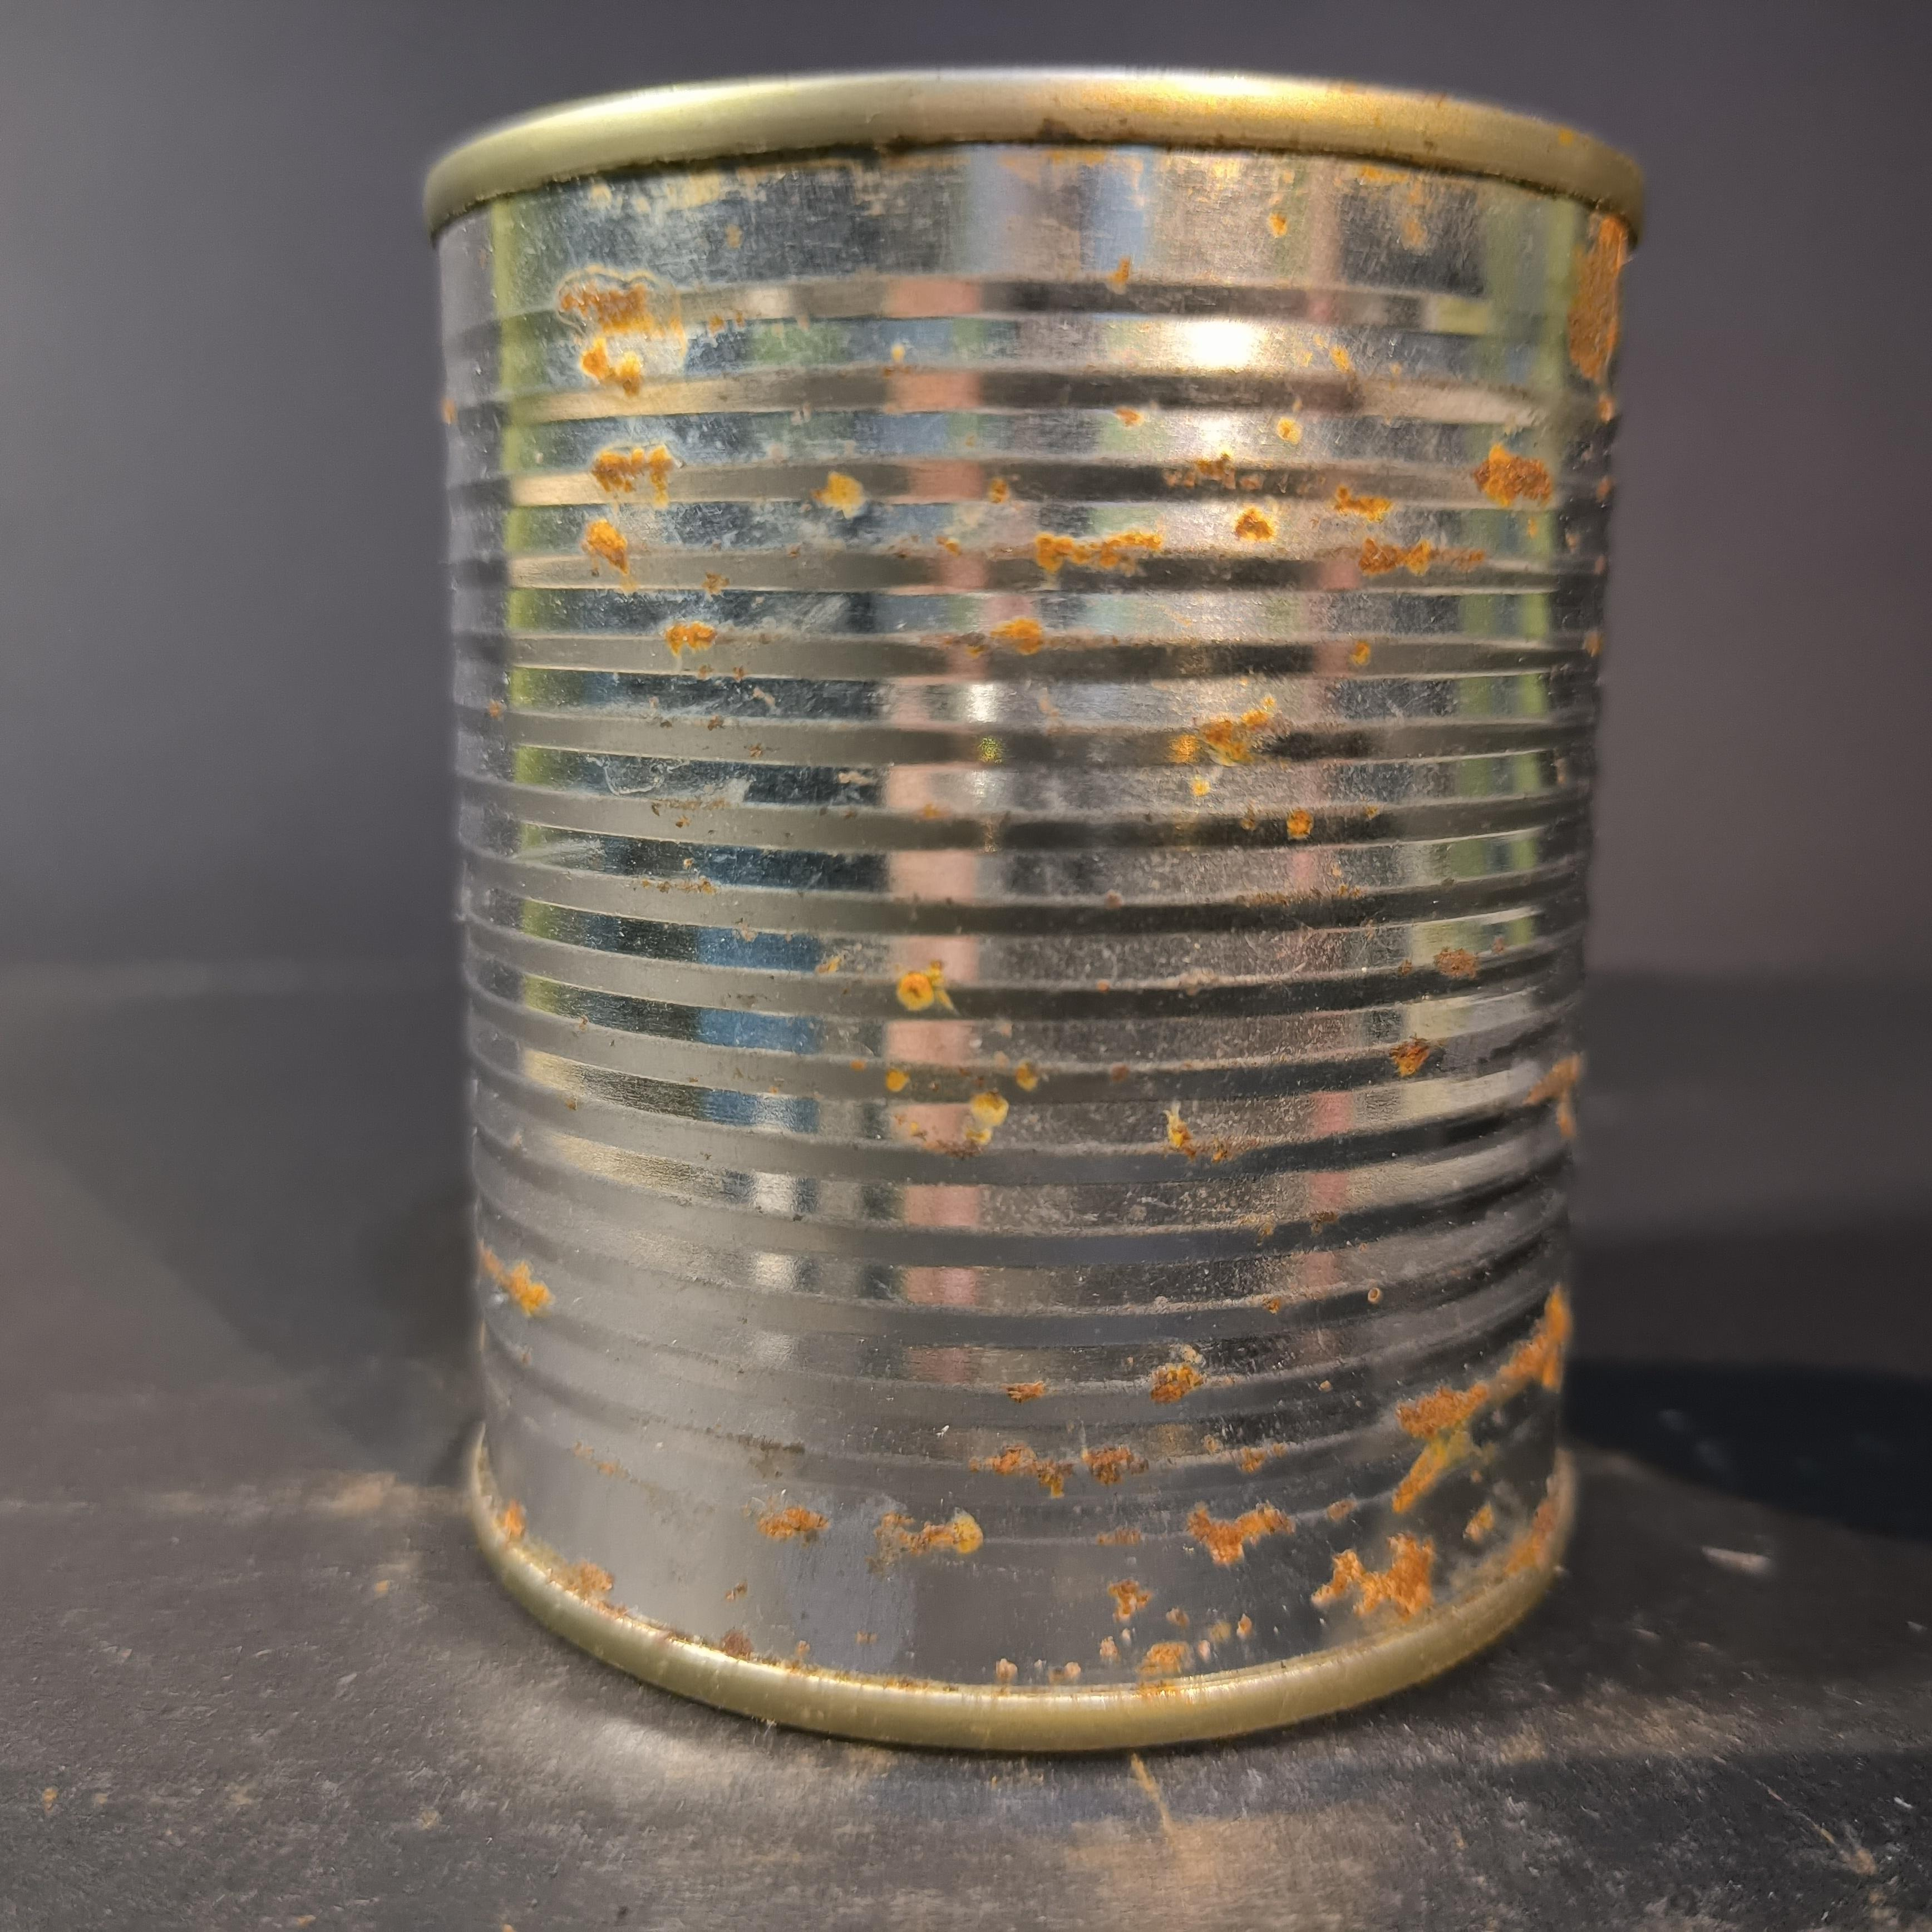Rusted: (418, 30, 1651, 1764)
